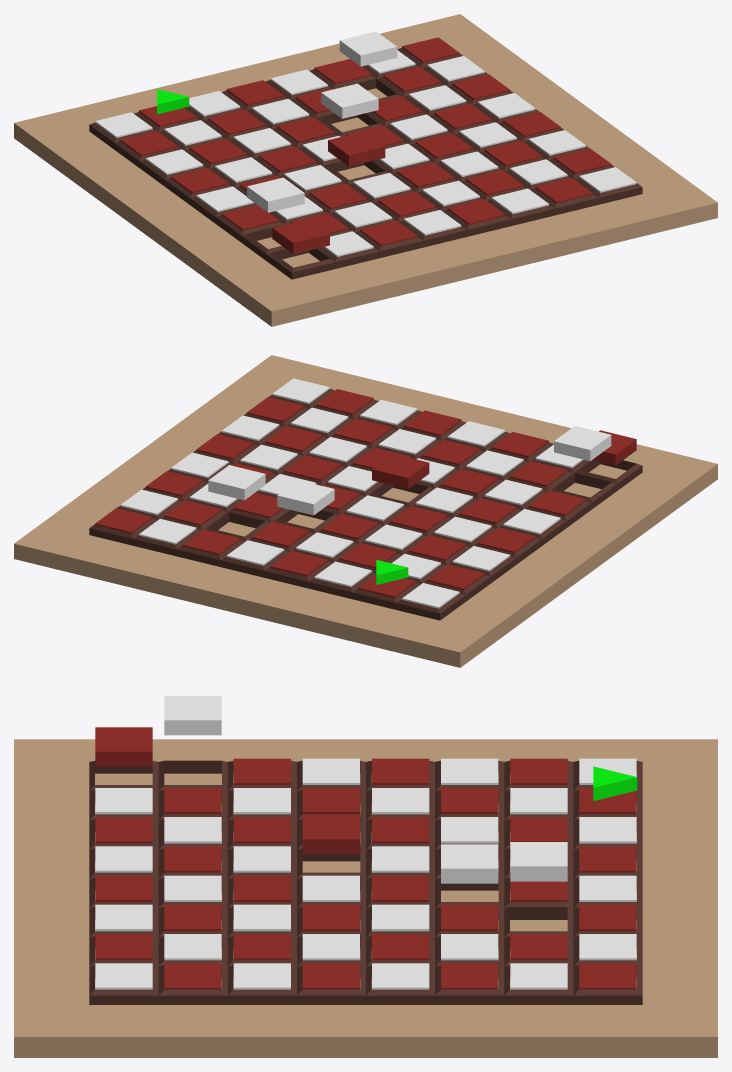
File: chess8.gltf
3 renders of one model, top to bottom at view 1: azimuth 30°, elevation 25°; view 2: azimuth 150°, elevation 25°; view 3: azimuth 270°, elevation 25°, orthographic. The views are drawn at different scales.
Parts seen in each view (by area): view 1: board_base, tile.031, tile.016, tile.003, tile.048, tile.049, trim.049, tile.014, tile.027, tile.033, tile.026, tile.037 (+63 smaller); view 2: board_base, tile.016, tile.031, tile.003, tile.048, trim.048, tile.054, tile.015, tile.043, tile.046, tile.008, tile.025 (+64 smaller); view 3: board_base, tile.016, tile.031, tile.048, tile.049, tile.003, tile.039, tile.054, tile.055, tile.014, tile.015, tile.023 (+94 smaller).
Part boxes in pixels (left/top/right/bottom): board_base: left=14, top=14, right=717, bottom=326; tile.031: left=339, top=31, right=397, bottom=66; tile.016: left=321, top=83, right=378, bottom=118; tile.003: left=328, top=131, right=385, bottom=166; tile.048: left=247, top=177, right=304, bottom=212; tile.049: left=272, top=219, right=329, bottom=254; trim.049: left=266, top=248, right=335, bottom=279; tile.014: left=390, top=114, right=447, bottom=139; tile.027: left=164, top=120, right=221, bottom=145; tile.033: left=226, top=80, right=284, bottom=105; tile.026: left=208, top=109, right=265, bottom=134; tile.037: left=402, top=37, right=459, bottom=62; board_base: left=14, top=355, right=717, bottom=667; tile.016: left=277, top=480, right=334, bottom=515; tile.031: left=208, top=465, right=265, bottom=500; tile.003: left=372, top=454, right=429, bottom=488; tile.048: left=554, top=426, right=611, bottom=461; trim.048: left=550, top=473, right=617, bottom=509; tile.054: left=334, top=418, right=392, bottom=443; tile.015: left=284, top=455, right=341, bottom=480; tile.043: left=447, top=421, right=505, bottom=446; tile.046: left=510, top=461, right=567, bottom=486; tile.008: left=478, top=527, right=535, bottom=552; tile.025: left=296, top=532, right=353, bottom=557; board_base: left=14, top=739, right=717, bottom=1057; tile.016: left=441, top=844, right=498, bottom=883; tile.031: left=510, top=842, right=567, bottom=881; tile.048: left=164, top=696, right=221, bottom=735; tile.049: left=95, top=727, right=152, bottom=766; tile.003: left=302, top=815, right=359, bottom=854; tile.039: left=579, top=904, right=636, bottom=931; tile.054: left=164, top=904, right=221, bottom=931; tile.055: left=95, top=904, right=152, bottom=931; tile.014: left=372, top=904, right=429, bottom=931; tile.015: left=302, top=904, right=359, bottom=931; tile.023: left=441, top=904, right=498, bottom=931.
Bounding box in the file's own units: 20.36 × 3.15 × 20.36.
